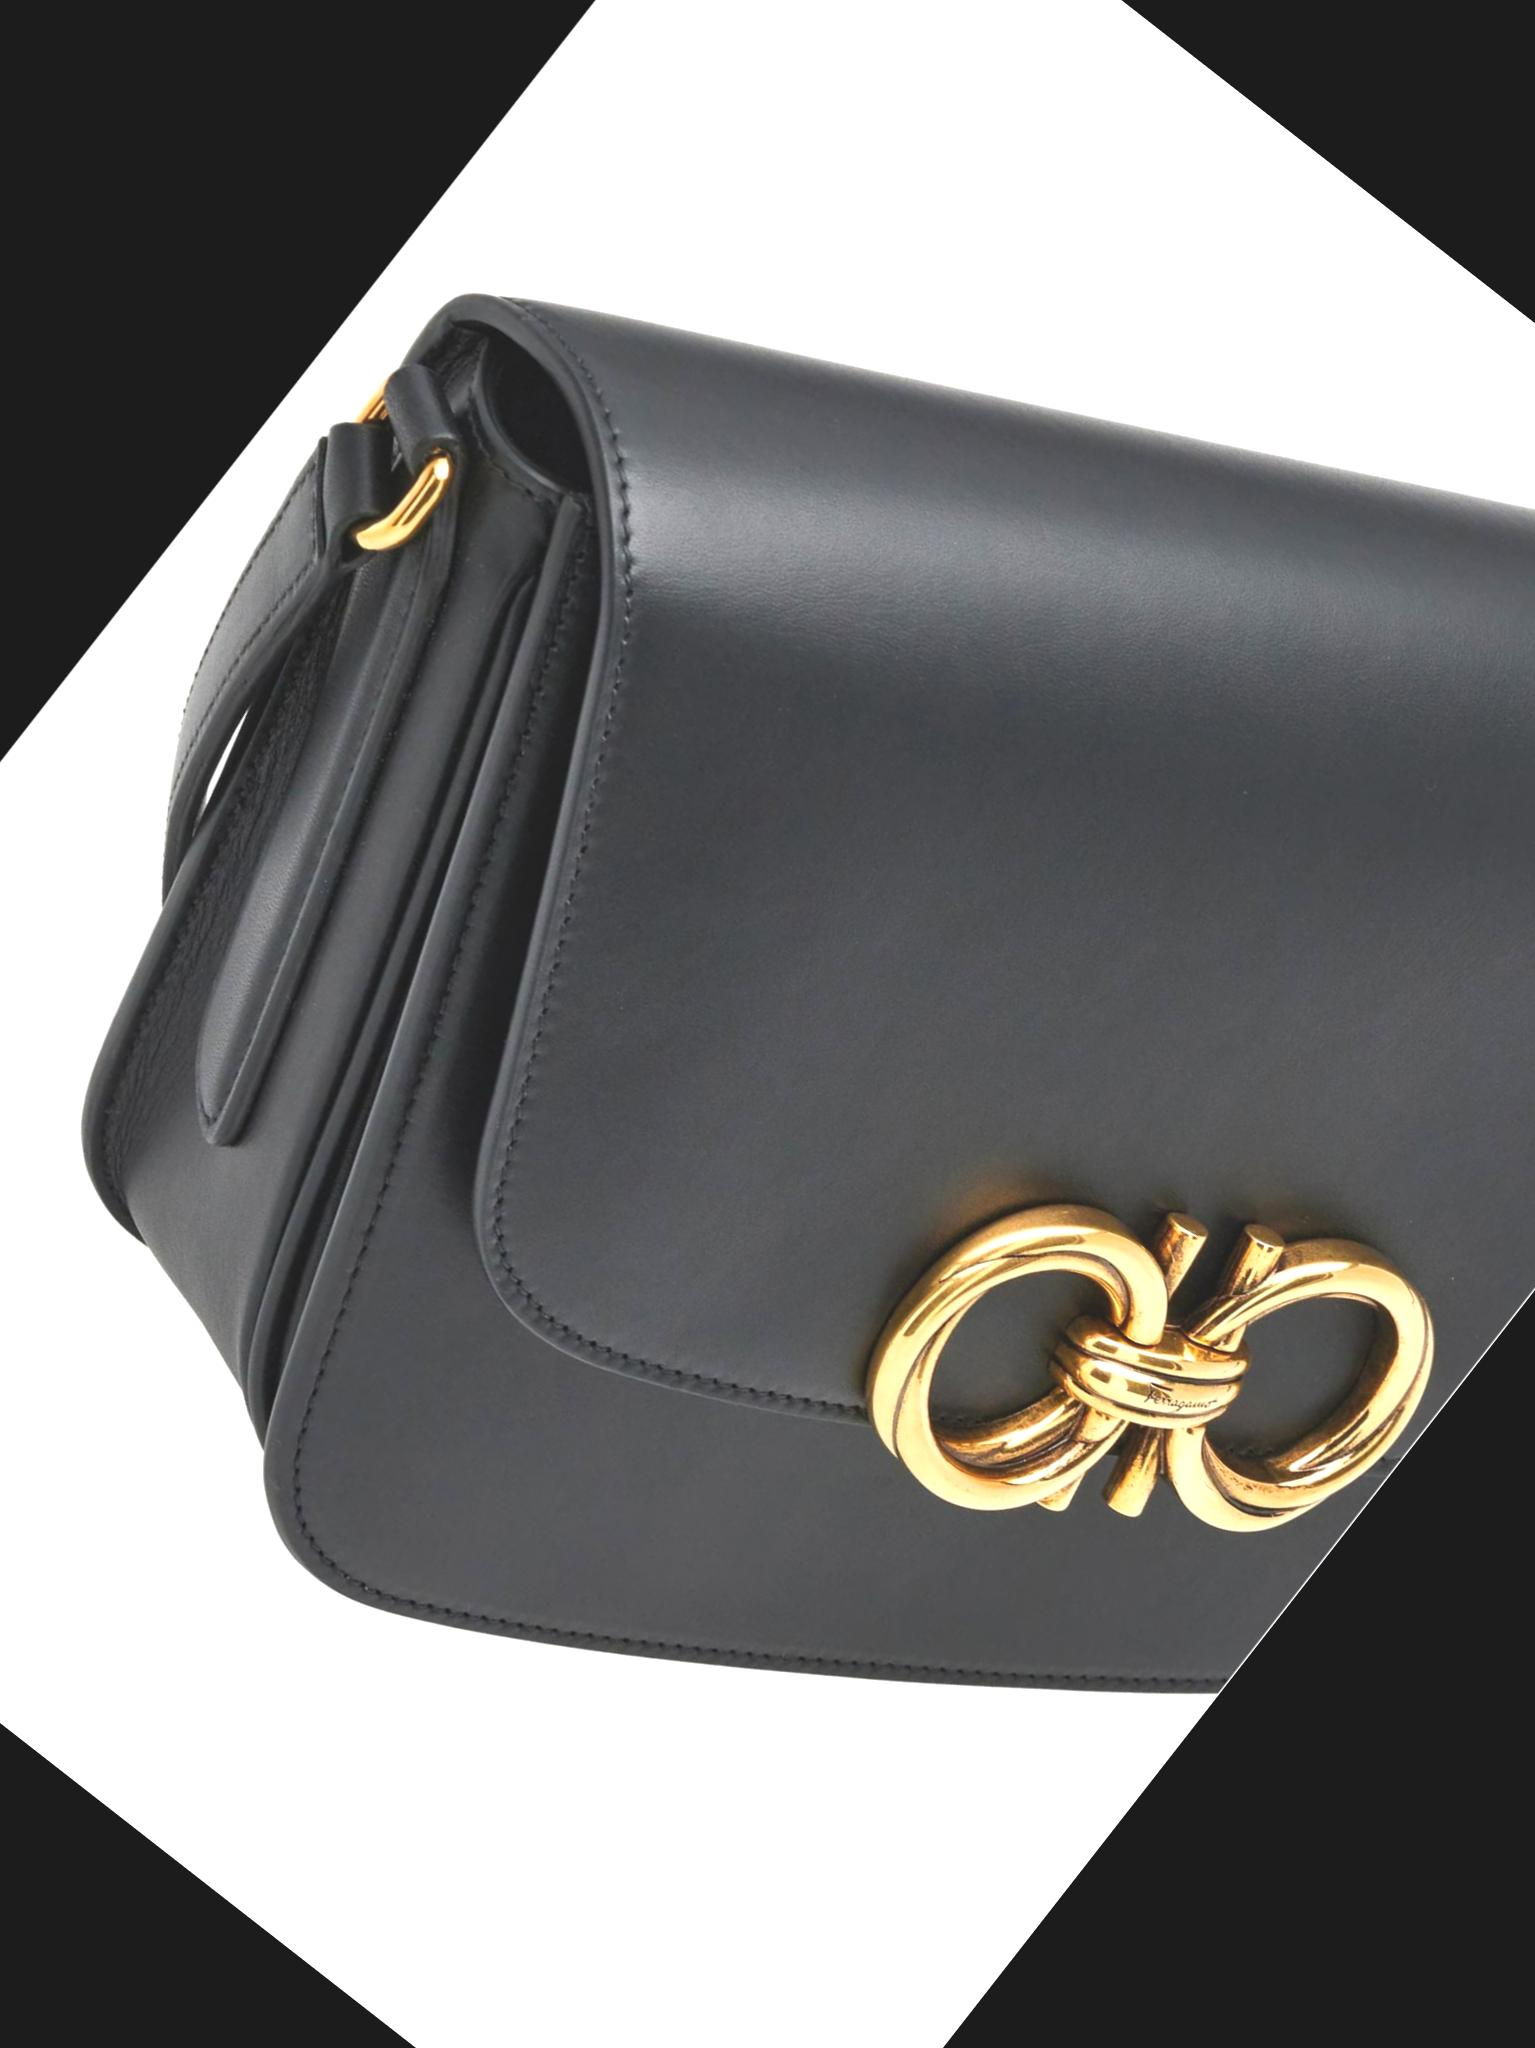FERRAGAMO: (764, 964, 1525, 1729)
